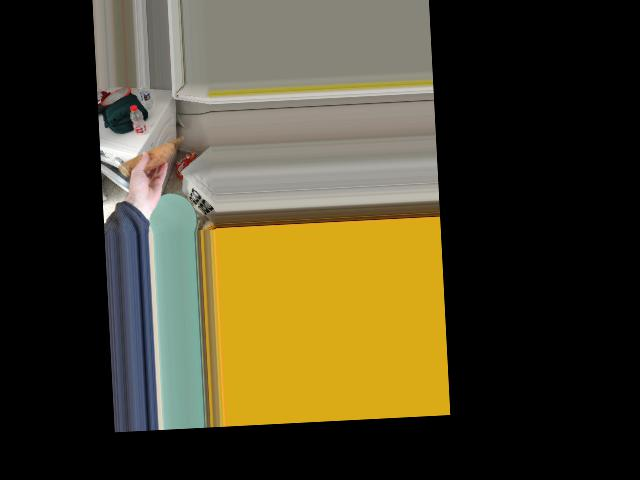sweet_potato: (122, 141, 170, 176)
